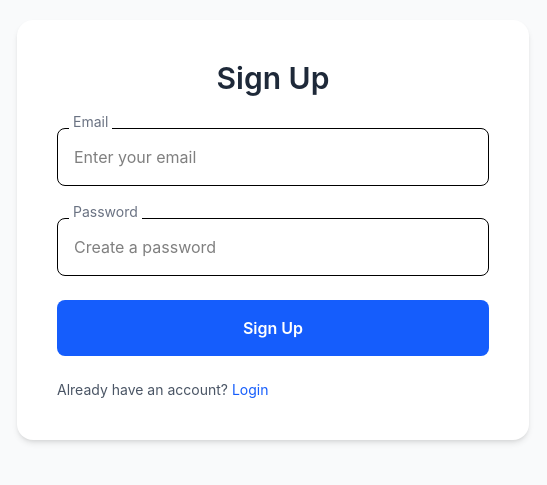
Scenario: auth flow › shows an error for duplicate signup email
In the field with test id "auth-signup-email": (273,157) [57,128,489,186], type "test@mail.com"
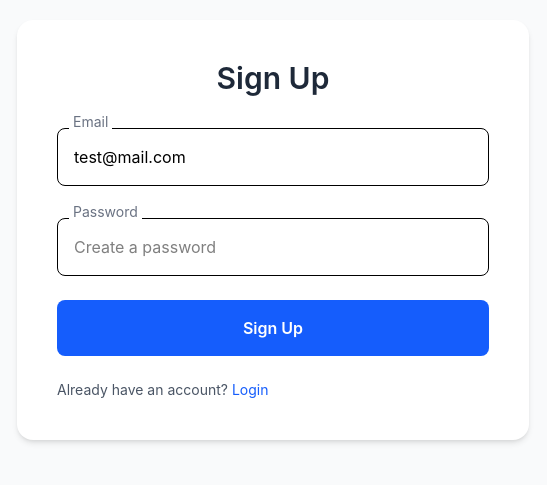
In the password field with test id "auth-signup-password": (273,247) [57,218,489,276], type "1234"
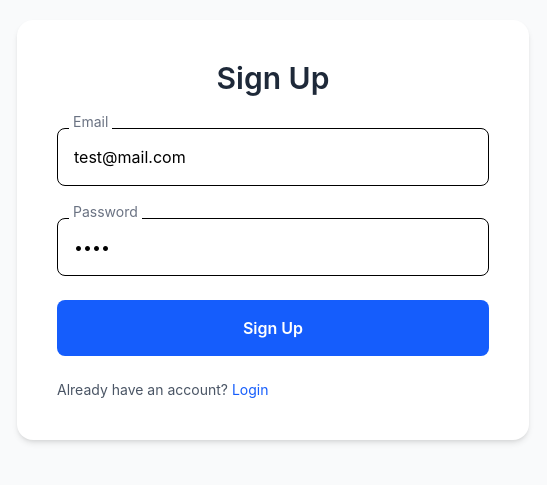
Click the button with test id "auth-signup-submit": (273,328) [57,300,489,356]
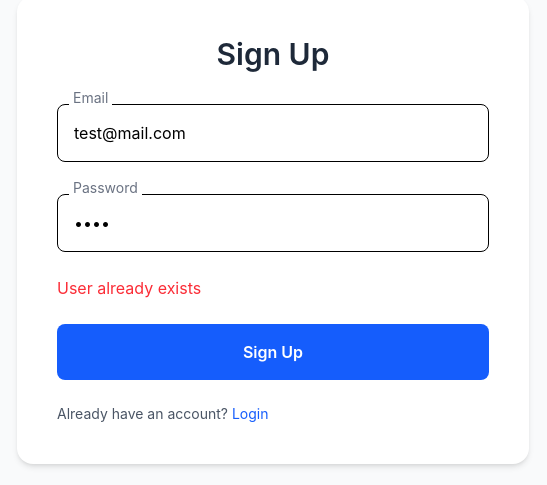
Expected: the text "User already exists" is shown, [57,278,201,298]
